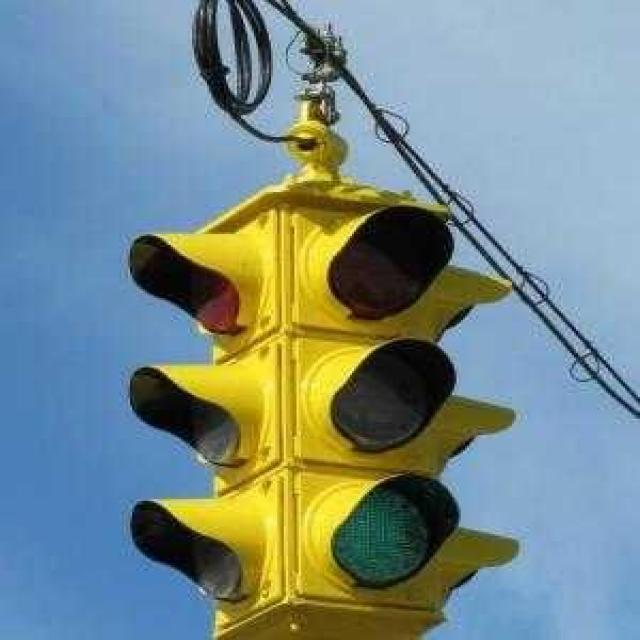Traffic Light -Green-: (303, 192, 465, 614)
